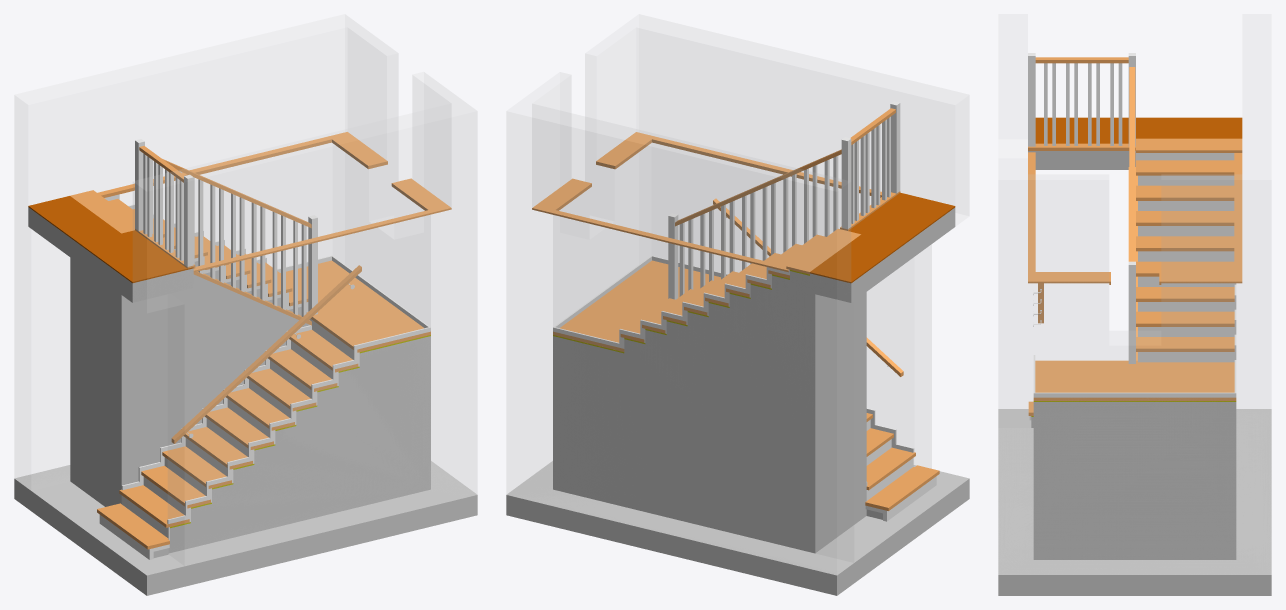
The model's file is Устройство лестницы на бетонном основании.obj.
The picture shows the model from 3 angles, left to right: view 1: azimuth 30°, elevation 25°; view 2: azimuth 150°, elevation 25°; view 3: azimuth 270°, elevation 25°; orthographic projection. The views are drawn at different scales.
Size of the model in its own units: 4.24 by 4.95 by 2.94.
